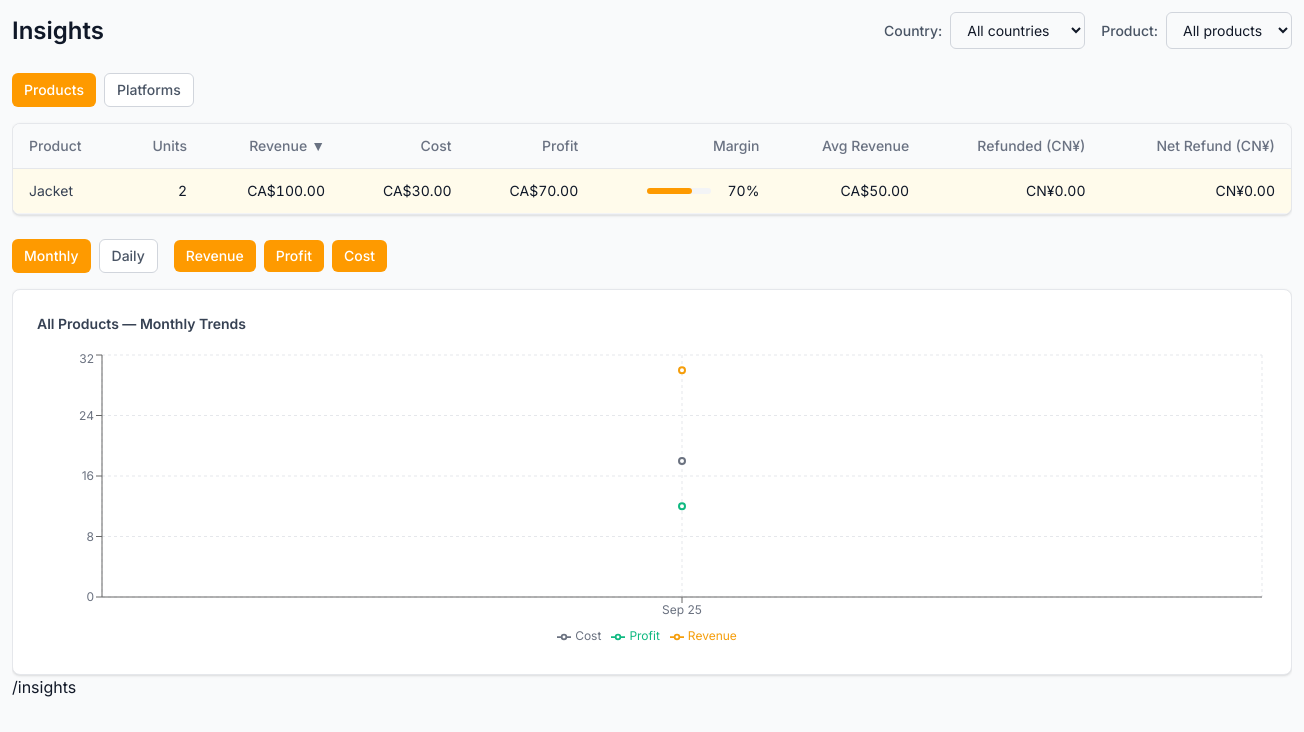
Test: InsightsPage › updates the URL when the Platforms tab is clicked
The width and height of the screenshot is (1304, 732).
Click the tab "Platforms".
click(149, 90)  # box [104,73,194,107]
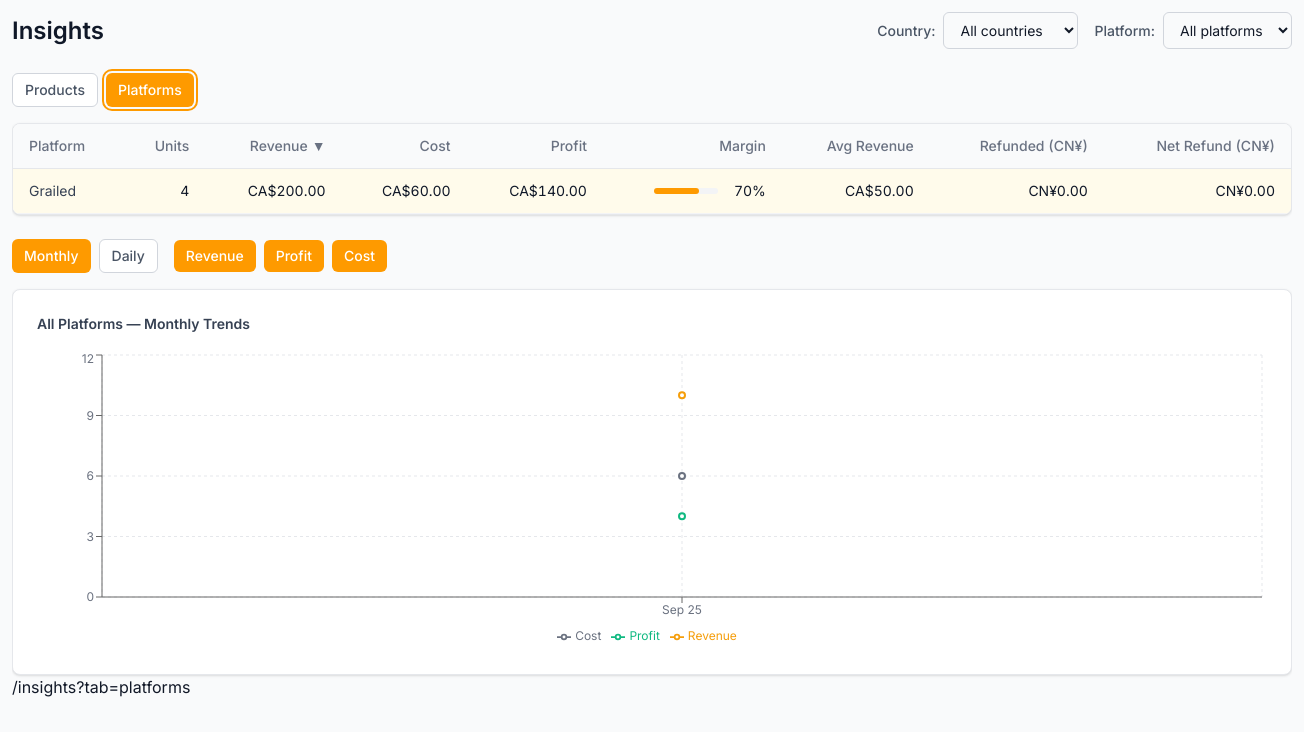
Expected: the text with test id "loc" shows "tab=platforms", [12,677,190,697]
